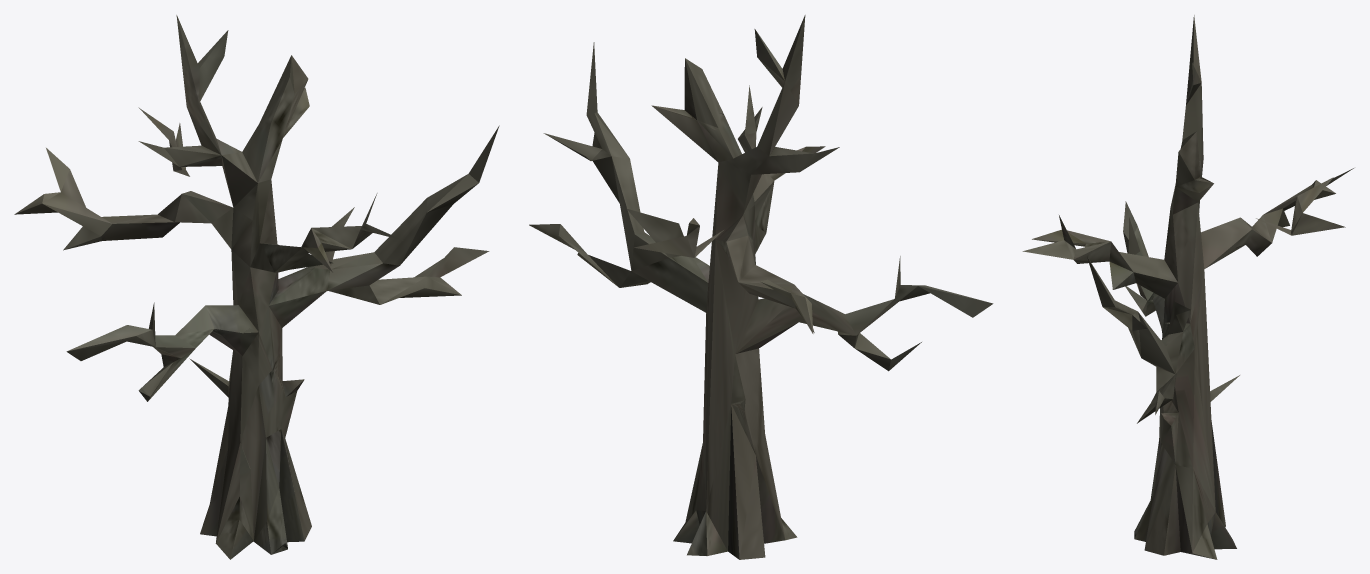
File: bg_swamp_dead_1_lod1.glb
The picture shows the model from 3 angles, left to right: view 1: azimuth 30°, elevation 25°; view 2: azimuth 150°, elevation 25°; view 3: azimuth 270°, elevation 25°; orthographic projection. The views are drawn at different scales.
Visible parts, largest first — view 1: body; view 2: body; view 3: body.
Boxes of the visible parts, x1,y1,x2,y2 form: body: [14, 15, 499, 559]; body: [529, 15, 993, 559]; body: [1022, 15, 1353, 559].
Bounding box in the file's own units: 3.84 × 4.48 × 2.74.
Materials: 1 (1 with a texture image).
